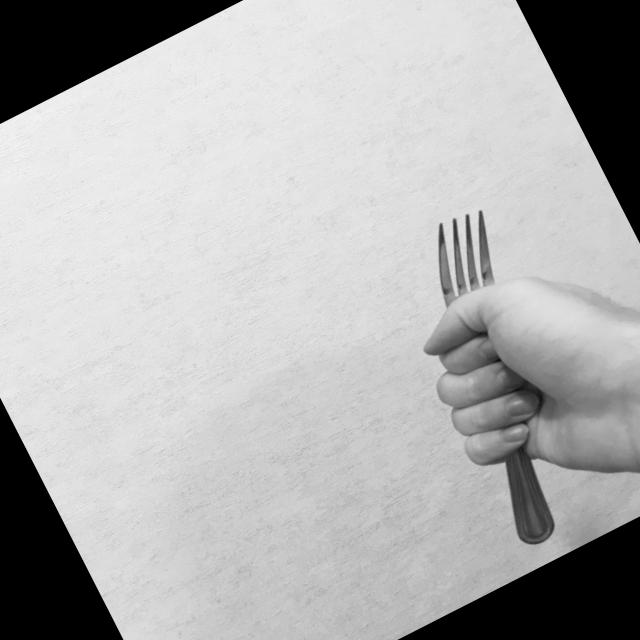fork: (373, 200, 632, 551)
